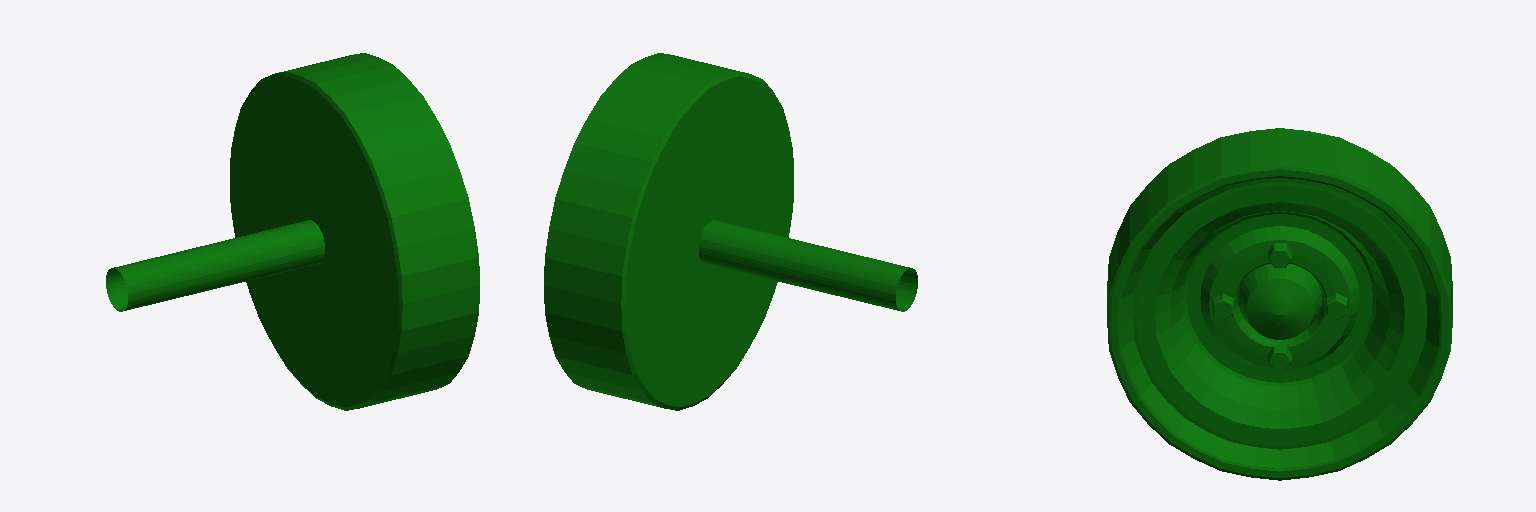
File: TankBackWheelLeft.obj
The picture shows the model from 3 angles: view 1: azimuth 30°, elevation 25°; view 2: azimuth 150°, elevation 25°; view 3: azimuth 270°, elevation 25°; orthographic projection.
Parts seen in each view (by area): view 1: TankBackWheelLeft_Untitled.017; view 2: TankBackWheelLeft_Untitled.017; view 3: TankBackWheelLeft_Untitled.017.
Boxes of the visible parts, <box> form: TankBackWheelLeft_Untitled.017: <box>106,53,479,410</box>; TankBackWheelLeft_Untitled.017: <box>544,53,917,410</box>; TankBackWheelLeft_Untitled.017: <box>1107,128,1452,480</box>.
Size of the model in its own units: 0.752 by 0.814 by 0.8094.